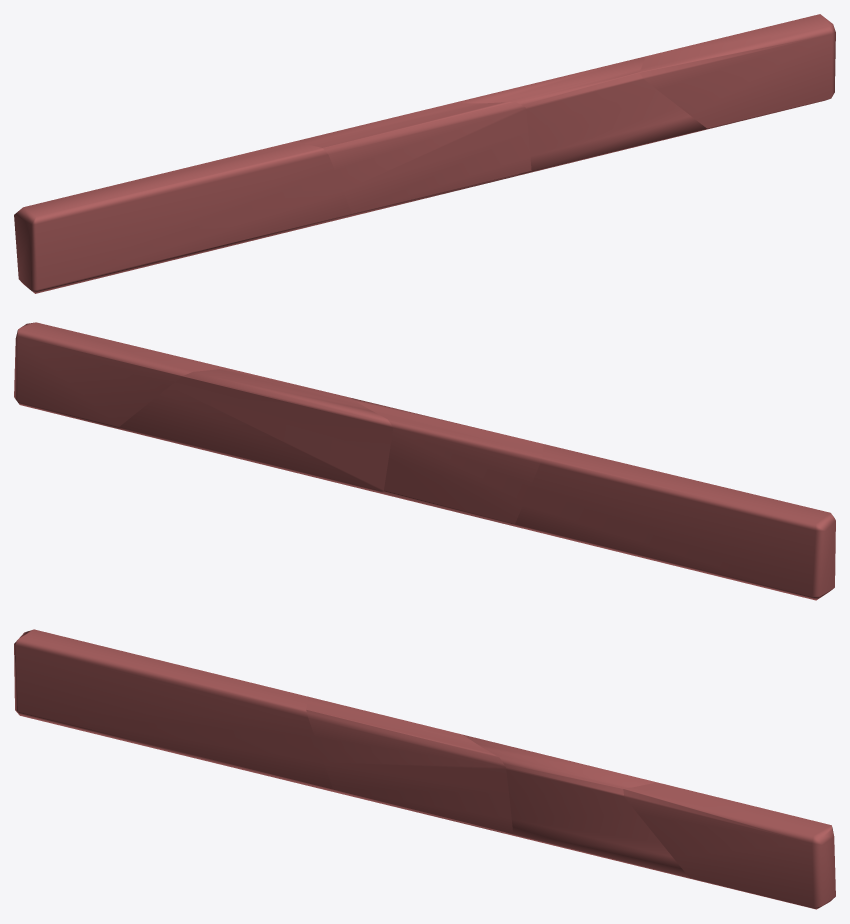
File: BrokenFence.fbx
3 views of the same model, one above another, from view 1: azimuth 30°, elevation 25°; view 2: azimuth 150°, elevation 25°; view 3: azimuth 330°, elevation 25° (orthographic).
Visible parts, largest first — view 1: shard3, shard2, shard4, shard1; view 2: shard3, shard1, shard2, shard4; view 3: shard3, shard2, shard4, shard1.
Part boxes in pixels (<box>): shard3: <box>14,141,351,293</box>; shard2: <box>297,101,531,217</box>; shard4: <box>639,14,835,128</box>; shard1: <box>451,56,713,176</box>; shard3: <box>513,444,835,600</box>; shard1: <box>119,368,393,492</box>; shard2: <box>351,398,543,525</box>; shard4: <box>14,322,225,429</box>; shard3: <box>14,629,335,792</box>; shard2: <box>306,696,513,833</box>; shard4: <box>623,782,835,909</box>; shard1: <box>463,734,703,881</box>.
Bounding box in the file's own units: 3.64 × 0.3426 × 0.1403.
